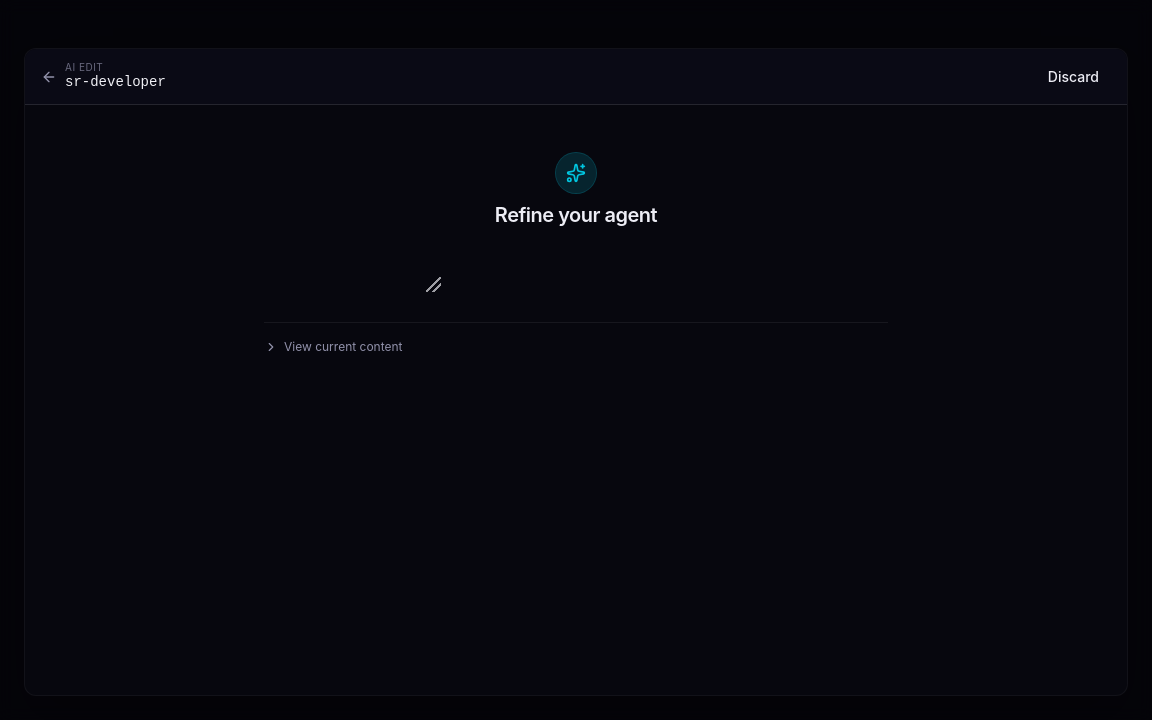
AiEditShell composing phase › toggles the current-body disclosure open and closed
This screenshot has width=1152, height=720.
expect the text "You are sr-developer." is not shown: met
Click the button "View current content".
click(333, 346)  # box [260,338,406,354]
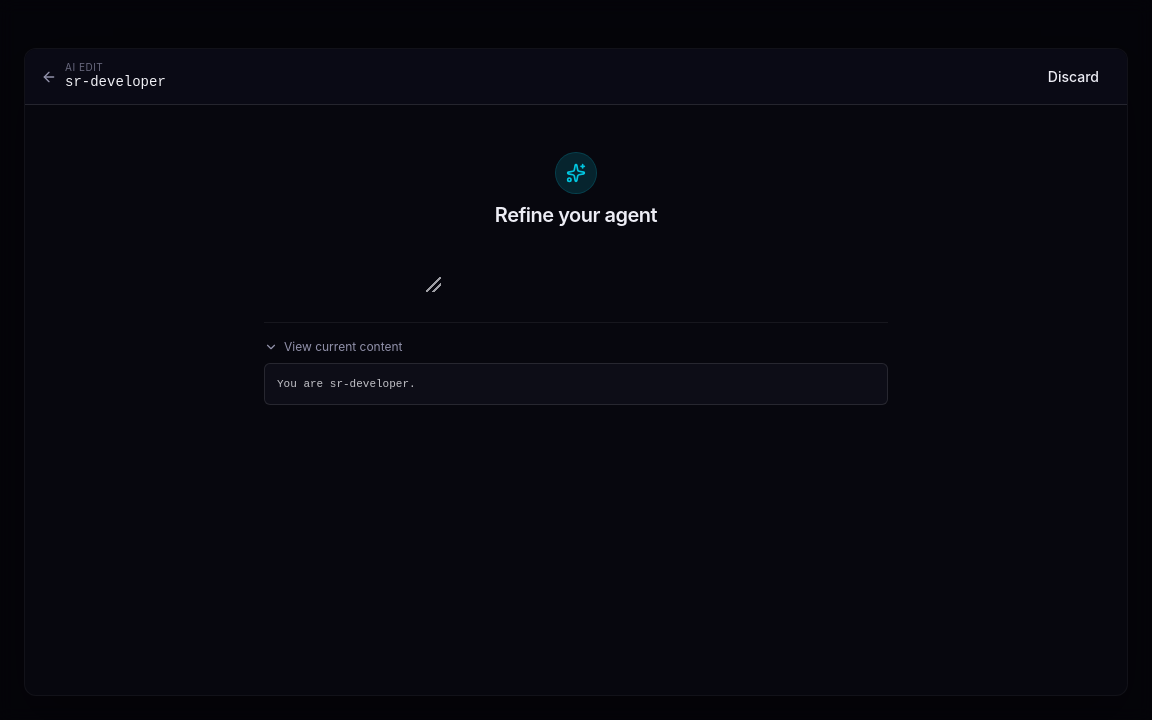
expect the text "You are sr-developer." is shown: met, box [264,362,888,405]
Click the button "View current content".
click(333, 346)  # box [260,338,406,354]
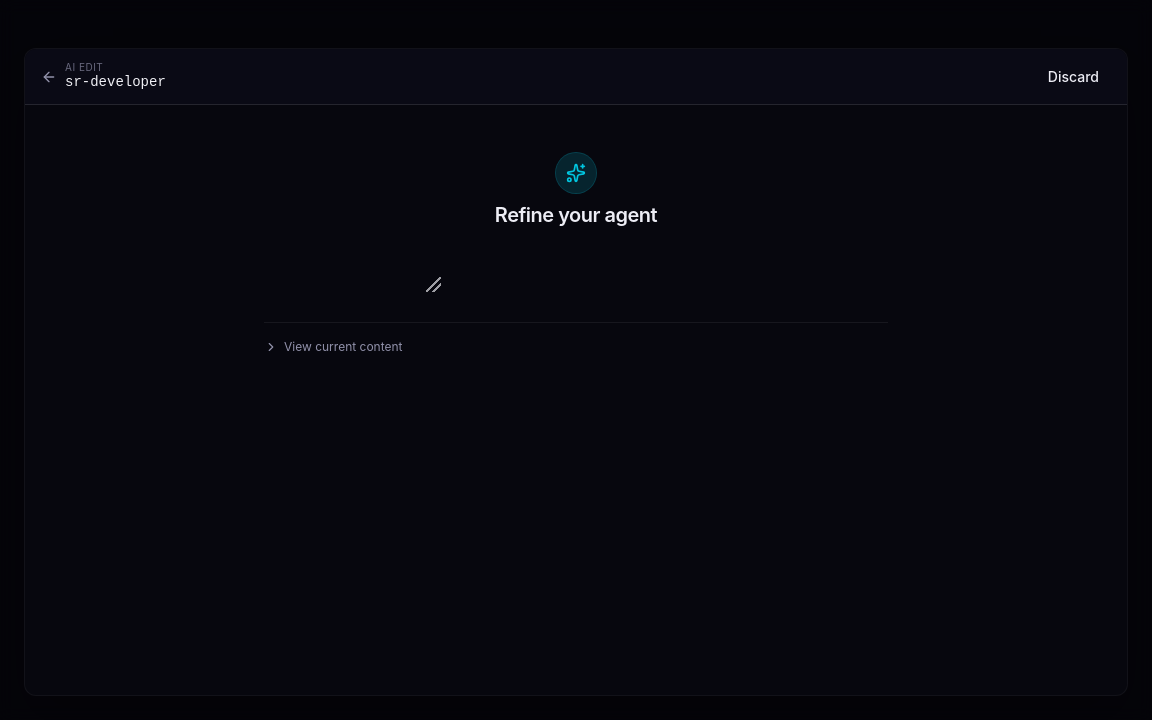
expect the text "You are sr-developer." is gone: met
